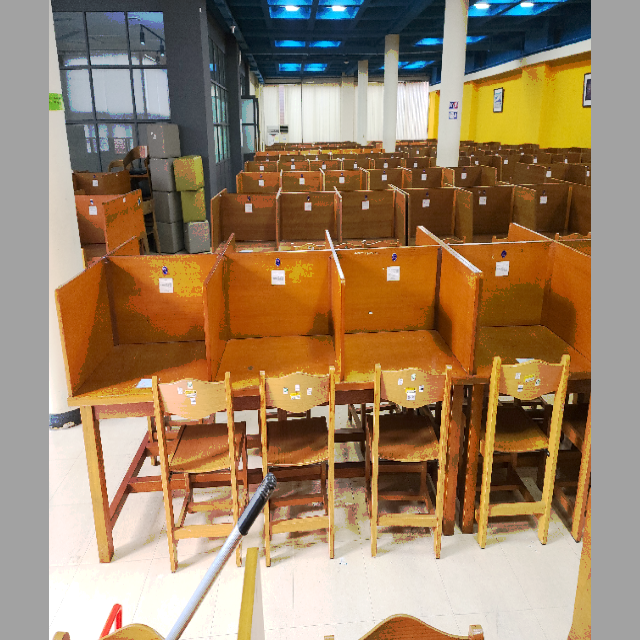empty: (55, 258, 212, 458), (219, 253, 344, 456), (349, 246, 474, 435)
